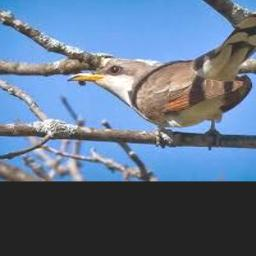Cuckoo: (67, 2, 256, 136)
